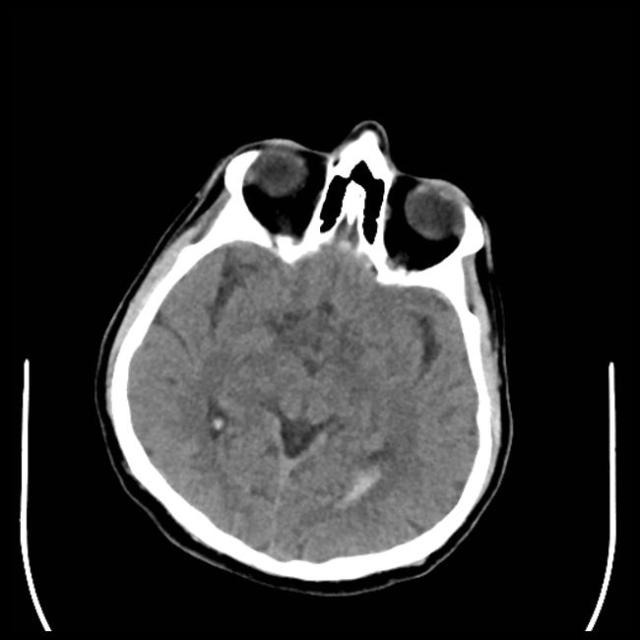lesion: (92, 118, 516, 590)
